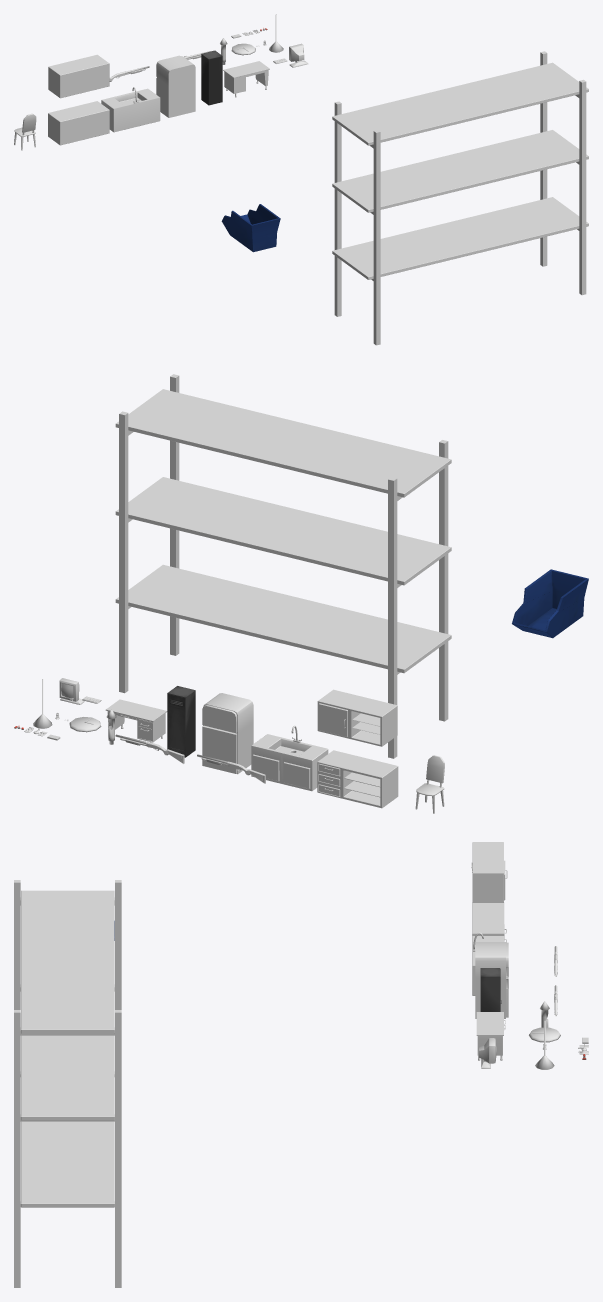
The model's file is QC_Factory_Assets.fbx.
The picture shows the model from 3 angles, top to bottom: view 1: azimuth 30°, elevation 25°; view 2: azimuth 150°, elevation 25°; view 3: azimuth 270°, elevation 25°; orthographic projection. The views are drawn at different scales.
Parts seen in each view (by area): view 1: Shelf, Fridge, Counter_Main, Cupboard, Sink_Base, Storage_Box, Locker, Desk, Cube.002; view 2: Shelf, Storage_Box, Counter_Main, Cupboard, Sink_Base, Fridge, Fridge_Door_Main, Desk, Locker, Locker_Door, Cube.002, Cupboard_Door (+2 smaller); view 3: Shelf, Cupboard, Fridge, Counter_Main, Desk, Locker.
Part boxes in pixels (x1=…): Shelf: x1=332, y1=51, x2=588, y2=345; Fridge: x1=157, y1=56, x2=195, y2=117; Counter_Main: x1=48, y1=101, x2=109, y2=145; Cupboard: x1=48, y1=54, x2=109, y2=98; Sink_Base: x1=101, y1=87, x2=160, y2=132; Storage_Box: x1=221, y1=204, x2=280, y2=252; Locker: x1=201, y1=50, x2=222, y2=105; Desk: x1=223, y1=61, x2=269, y2=97; Cube.002: x1=14, y1=113, x2=36, y2=150; Shelf: x1=115, y1=374, x2=451, y2=758; Storage_Box: x1=512, y1=569, x2=588, y2=638; Counter_Main: x1=317, y1=750, x2=398, y2=808; Cupboard: x1=317, y1=689, x2=397, y2=746; Sink_Base: x1=251, y1=725, x2=328, y2=791; Fridge: x1=203, y1=693, x2=253, y2=774; Fridge_Door_Main: x1=202, y1=725, x2=237, y2=773; Desk: x1=105, y1=699, x2=167, y2=742; Locker: x1=167, y1=686, x2=195, y2=757; Locker_Door: x1=168, y1=694, x2=184, y2=750; Cube.002: x1=415, y1=755, x2=444, y2=813; Cupboard_Door: x1=319, y1=703, x2=347, y2=736; Shelf: x1=14, y1=880, x2=121, y2=1287; Cupboard: x1=472, y1=842, x2=503, y2=902; Fridge: x1=475, y1=942, x2=505, y2=1018; Counter_Main: x1=472, y1=902, x2=504, y2=935; Desk: x1=476, y1=1012, x2=503, y2=1060; Locker: x1=480, y1=968, x2=500, y2=1011.
Size of the model in its own units: 5934 by 3078 by 5829.
17 materials, 3 textured.
